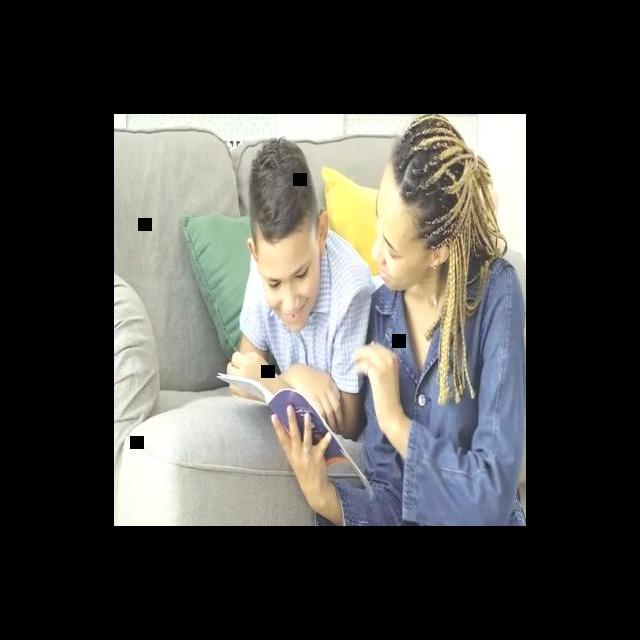female: (351, 128, 490, 305)
male: (218, 133, 348, 328)
